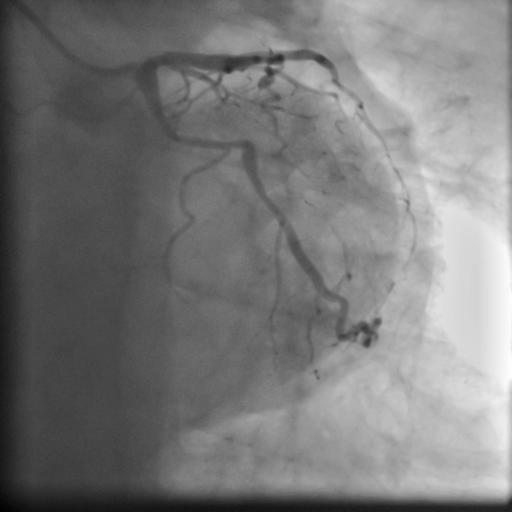Stenosis: (225, 136, 248, 154)
